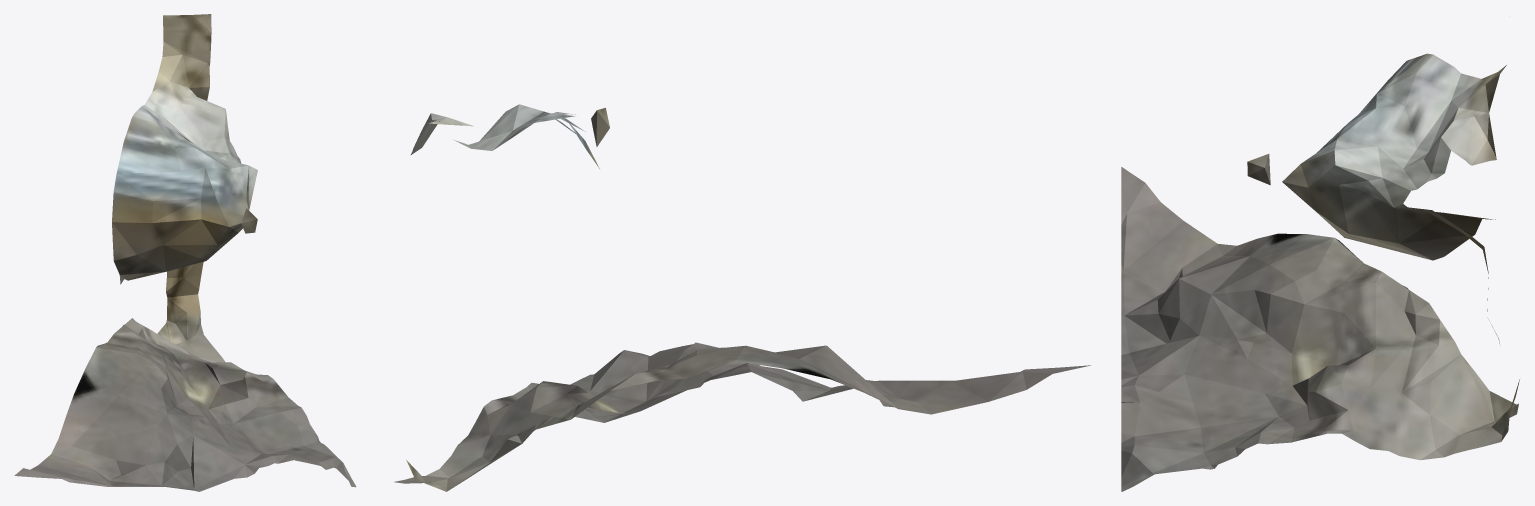
3 renders of one model, left to right at view 1: azimuth 30°, elevation 25°; view 2: azimuth 150°, elevation 25°; view 3: azimuth 270°, elevation 25°, orthographic. The views are drawn at different scales.
Size of the model in its own units: 2.92 by 2.99 by 2.37.
1 material, 1 textured.
